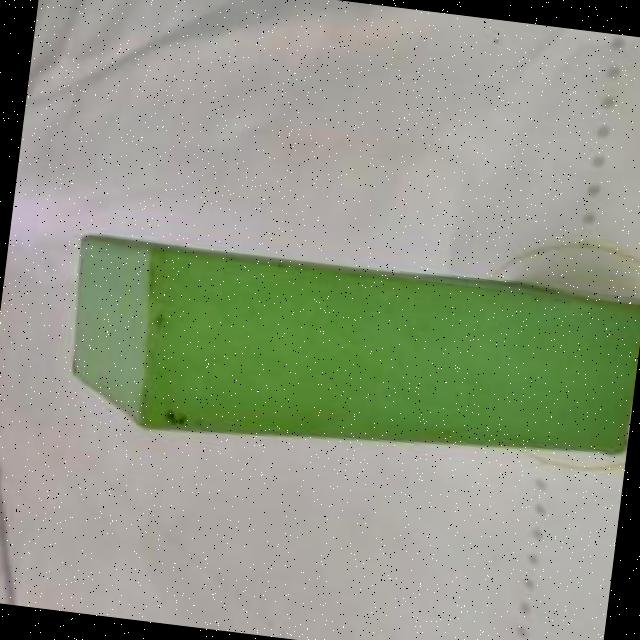greenbox: (54, 225, 640, 494)
